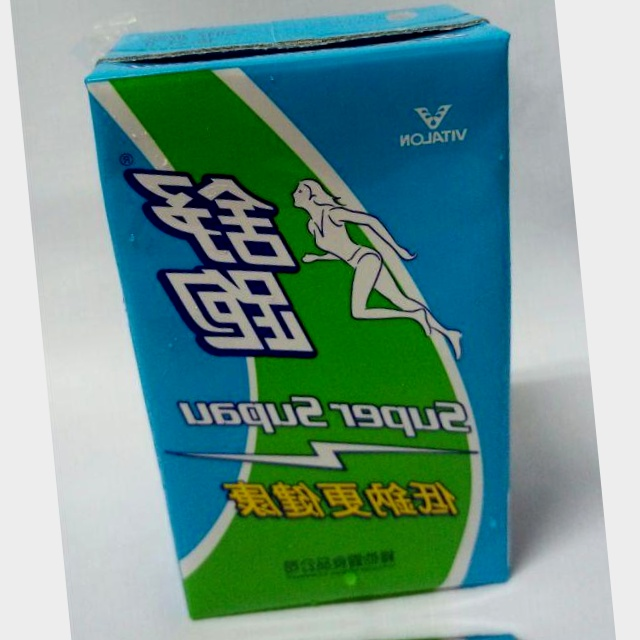鋁箔包: (79, 0, 573, 631), (139, 616, 633, 640)
